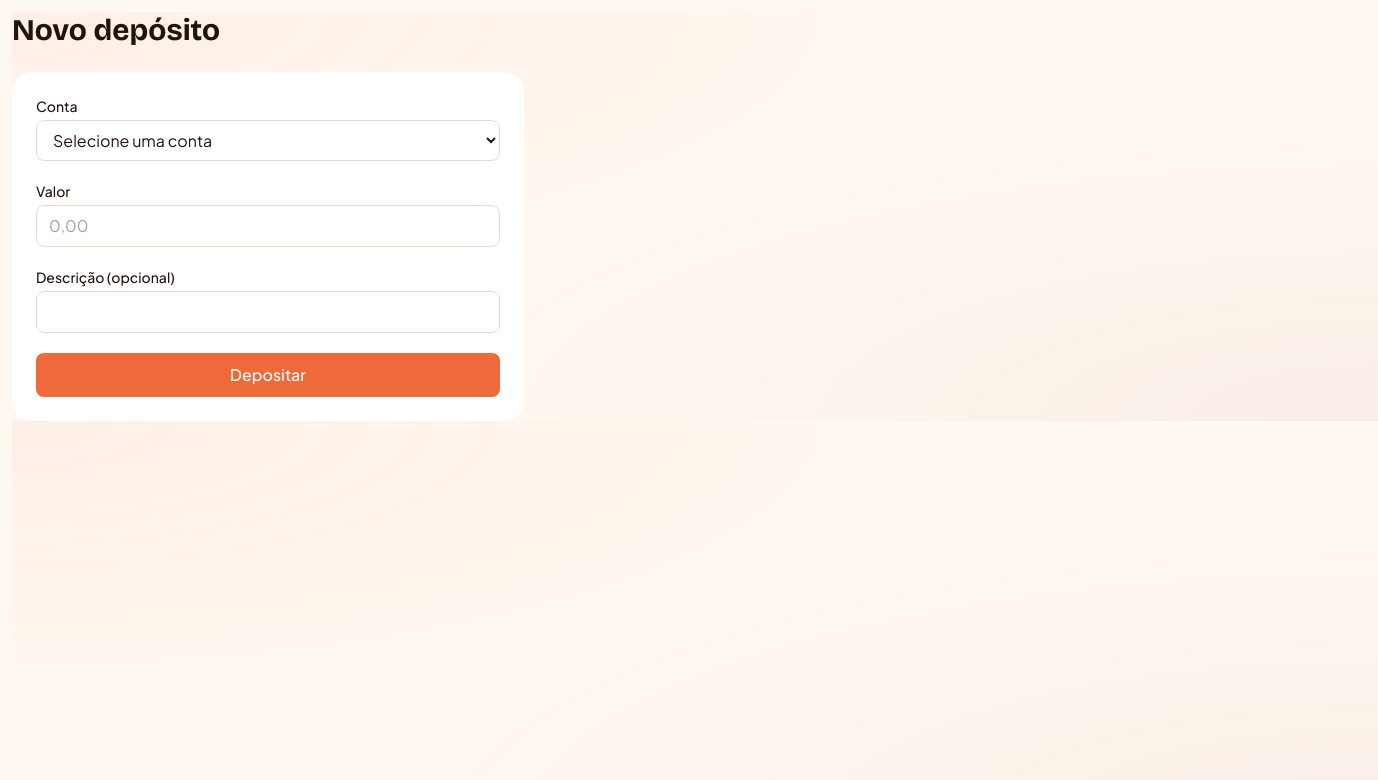
Test case: DepositoForm › envia depósito com Idempotency-Key e mostra sucesso
Step 1. Select "Agência 0001 · Conta 0042-0" in the dropdown labelled "Conta" → (268, 140), box [36, 120, 500, 161]
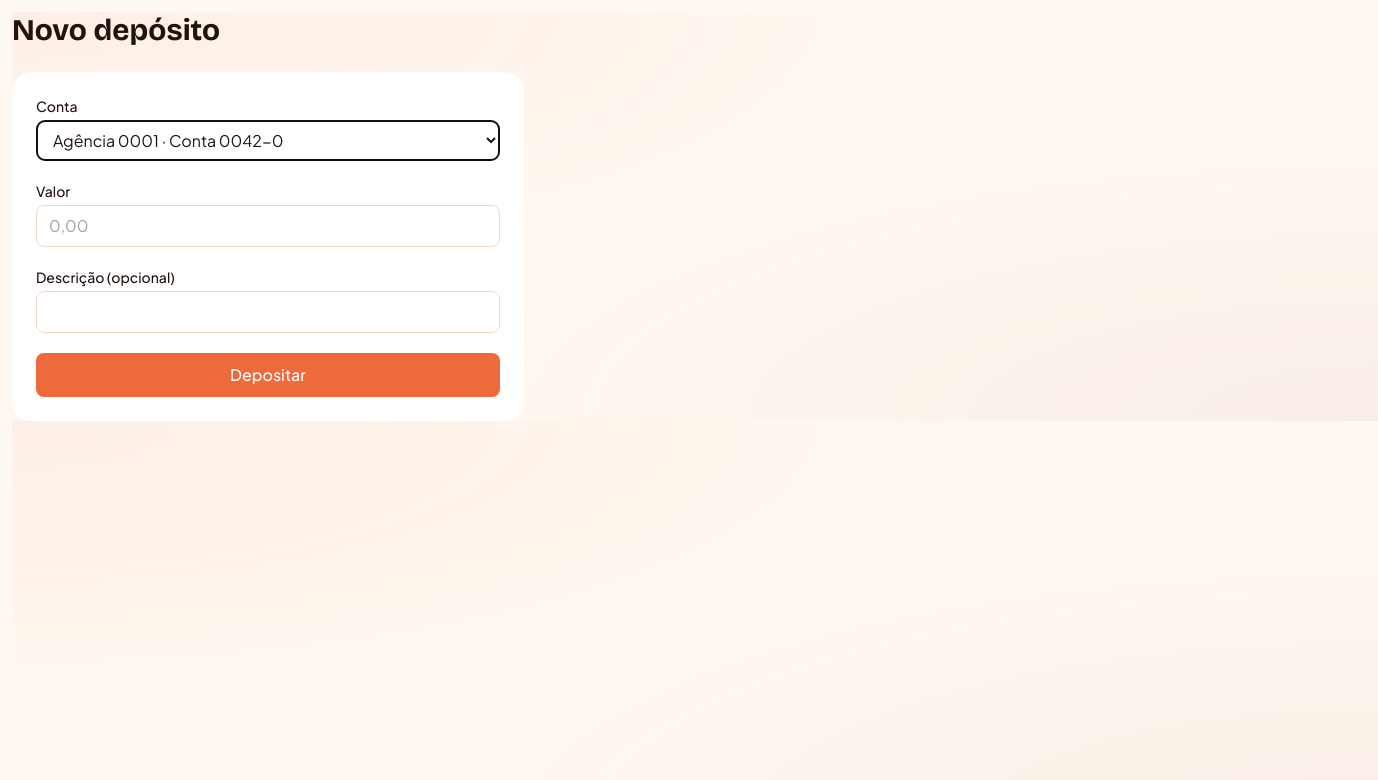
Step 2. Type "100,00" into the field labelled "Valor" → (268, 226), box [36, 205, 500, 247]
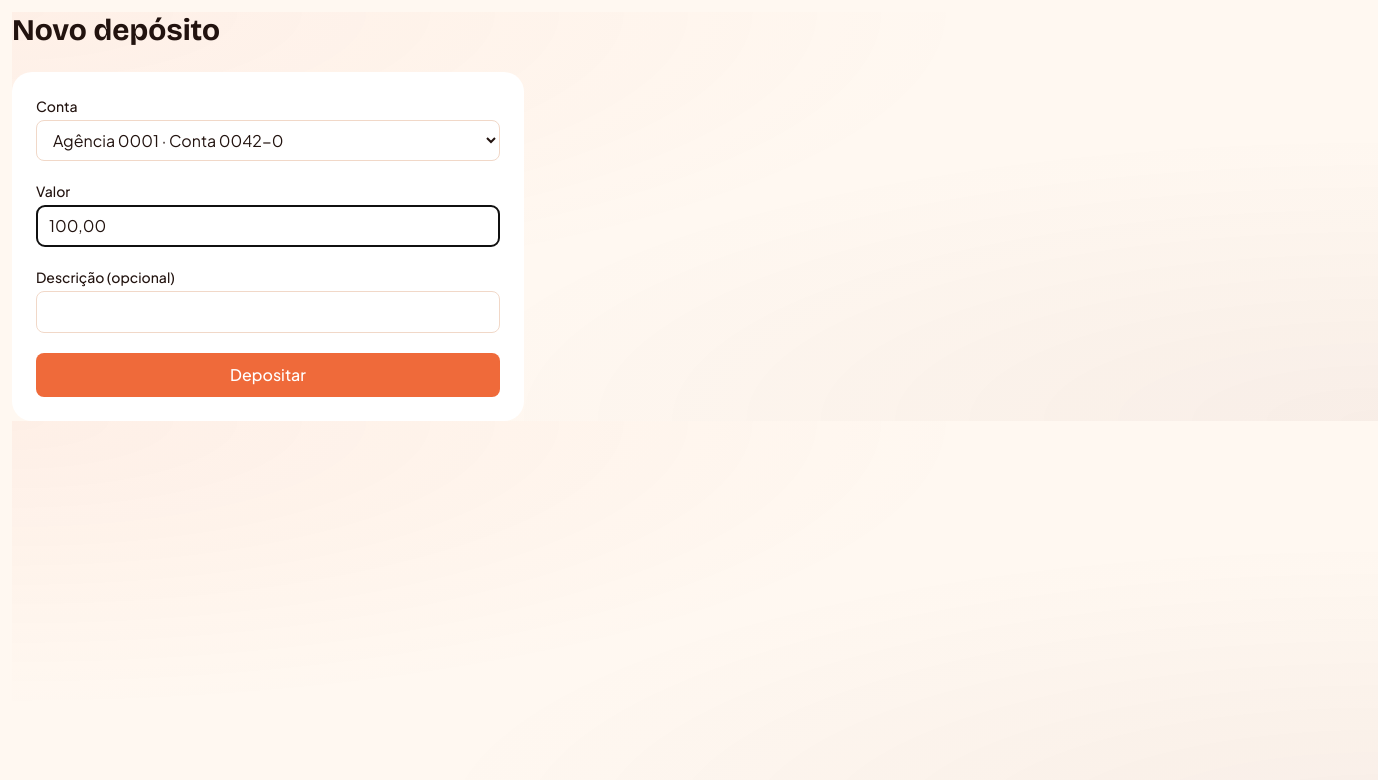
Step 3. Click the button "Depositar" → (268, 375), box [36, 353, 500, 397]
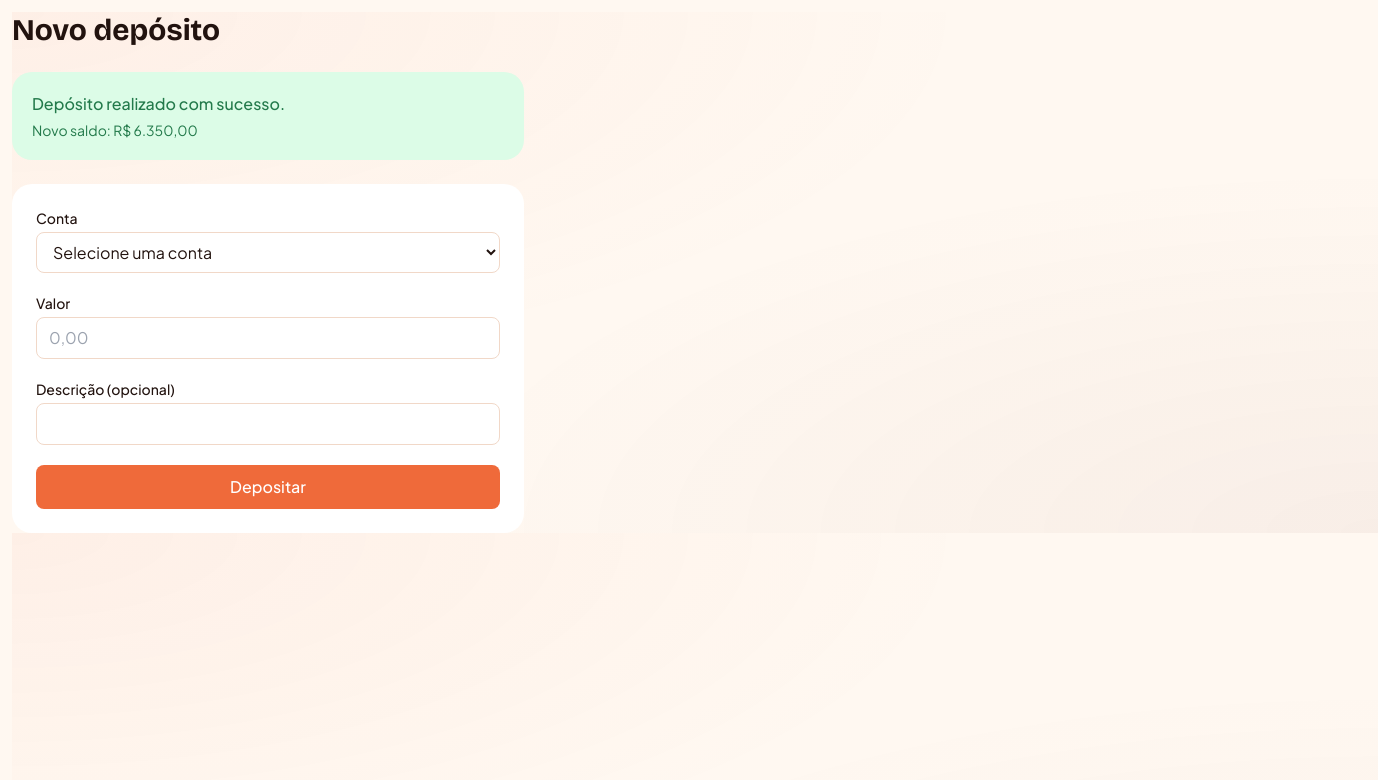
Expected: the text "Depósito realizado com sucesso." is shown, [32, 93, 285, 114]
Expected: the text "Novo saldo: R$ 6.350,00" is shown, [32, 121, 198, 139]
